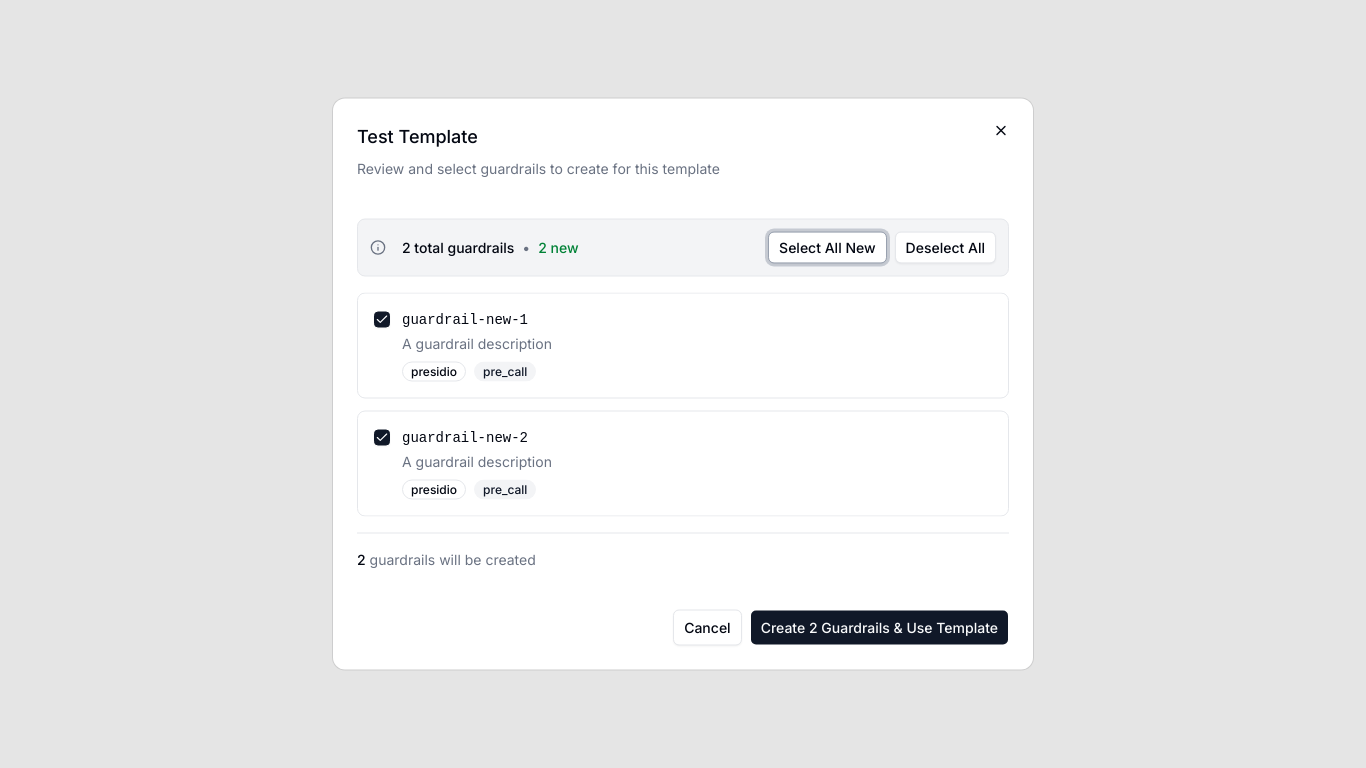
Test: GuardrailSelectionModal › should deselect all guardrails when 'Deselect All' is clicked
expect the text "guardrail-new-1" is shown: met, box [402,310,528,330]
Click the button "Deselect All" at (945, 248), box [895,232,996,264]
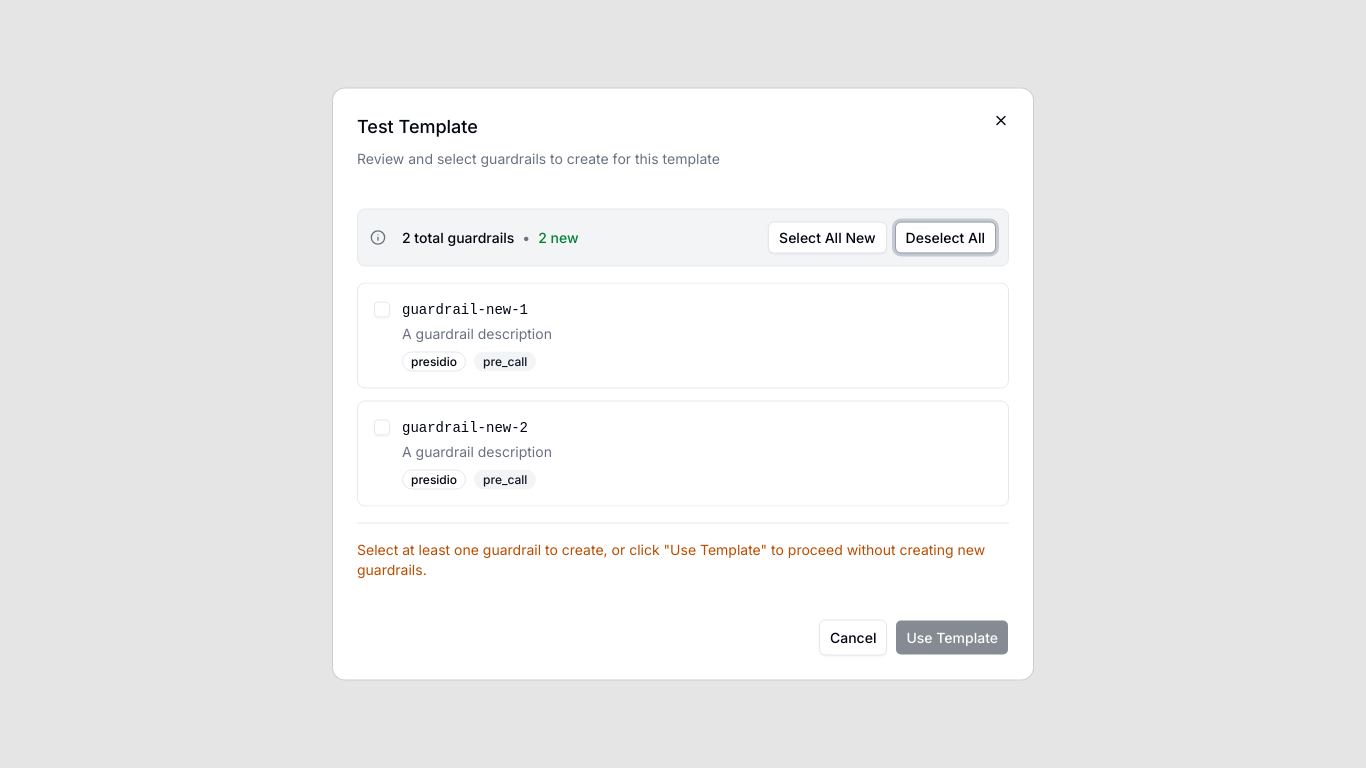
expect the checkbox next to "guardrail-new-1" is not checked: met, box [374,302,390,318]
expect the checkbox next to "guardrail-new-2" is not checked: met, box [374,420,390,436]
